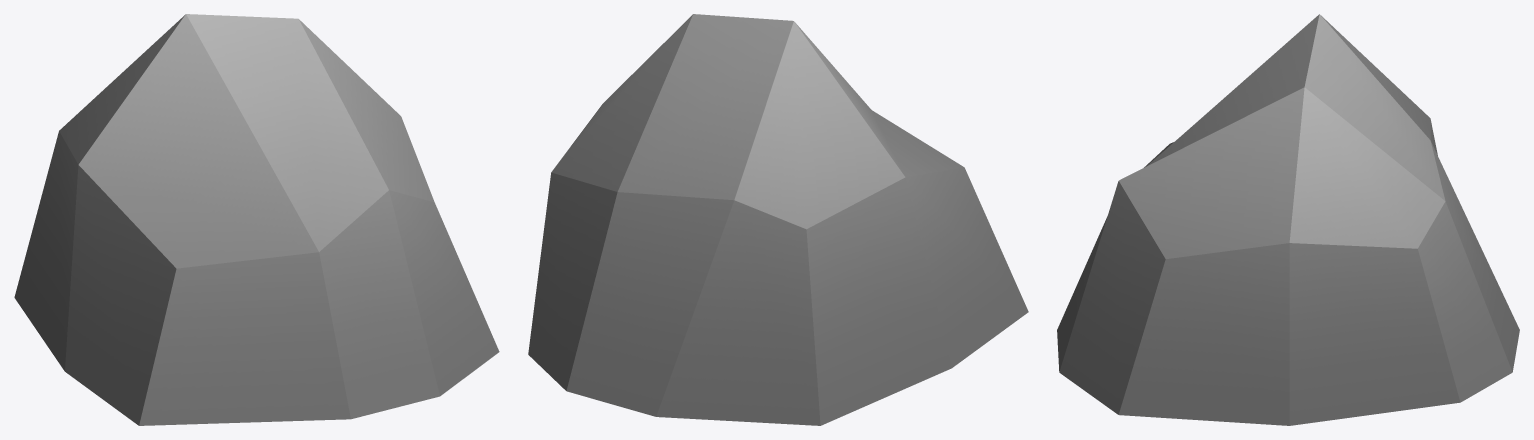
File: Small Stone.fbx
The picture shows the model from 3 angles, left to right: view 1: azimuth 30°, elevation 25°; view 2: azimuth 150°, elevation 25°; view 3: azimuth 270°, elevation 25°; orthographic projection. The views are drawn at different scales.
Visible parts, largest first — view 1: Small Stone; view 2: Small Stone; view 3: Small Stone.
Part boxes in pixels (bbox=[...]): Small Stone: bbox=[14, 14, 499, 425]; Small Stone: bbox=[528, 14, 1028, 425]; Small Stone: bbox=[1057, 14, 1519, 425].
Size of the model in its own units: 241 by 195 by 271.
Materials: 1 (1 with a texture image).
